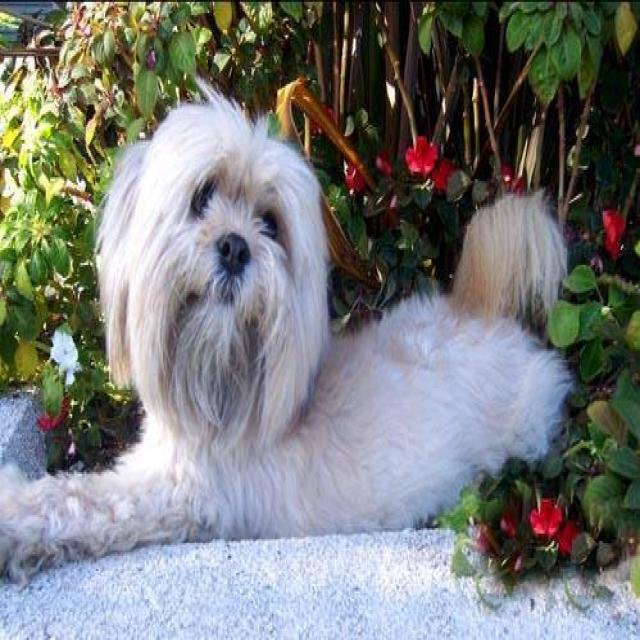Dog: (105, 90, 316, 440)
